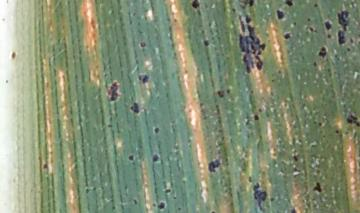tarspot: (238, 24, 266, 74), (251, 181, 269, 213), (106, 78, 121, 103), (336, 9, 348, 32), (206, 157, 222, 174), (345, 113, 360, 127), (136, 71, 149, 85), (128, 101, 140, 115), (238, 14, 246, 34), (336, 29, 345, 46), (274, 8, 285, 21), (156, 199, 167, 211), (317, 46, 327, 59), (311, 182, 322, 193), (323, 20, 333, 32), (306, 25, 319, 34), (150, 153, 160, 164), (189, 1, 201, 10), (152, 125, 161, 136), (9, 50, 18, 61), (282, 32, 292, 41), (126, 153, 136, 162), (216, 89, 225, 99), (243, 14, 252, 24), (287, 205, 298, 213), (162, 187, 173, 195), (130, 198, 139, 207), (138, 40, 147, 49), (252, 113, 260, 122), (41, 162, 49, 171), (292, 154, 299, 164), (283, 1, 294, 7), (291, 20, 299, 28), (90, 184, 98, 192), (246, 175, 253, 184), (202, 38, 209, 47), (150, 201, 157, 209), (269, 196, 277, 203), (84, 187, 91, 195), (105, 123, 114, 129), (247, 1, 254, 8), (325, 32, 332, 39), (347, 36, 354, 43), (345, 46, 352, 53), (276, 68, 283, 75), (334, 128, 340, 136), (312, 60, 318, 68), (312, 3, 319, 9), (306, 16, 312, 23), (230, 7, 236, 14), (1, 16, 7, 23), (208, 209, 217, 213), (176, 206, 182, 212), (317, 121, 323, 127), (225, 88, 231, 94), (172, 194, 177, 201), (4, 78, 9, 85), (5, 1, 10, 5)
